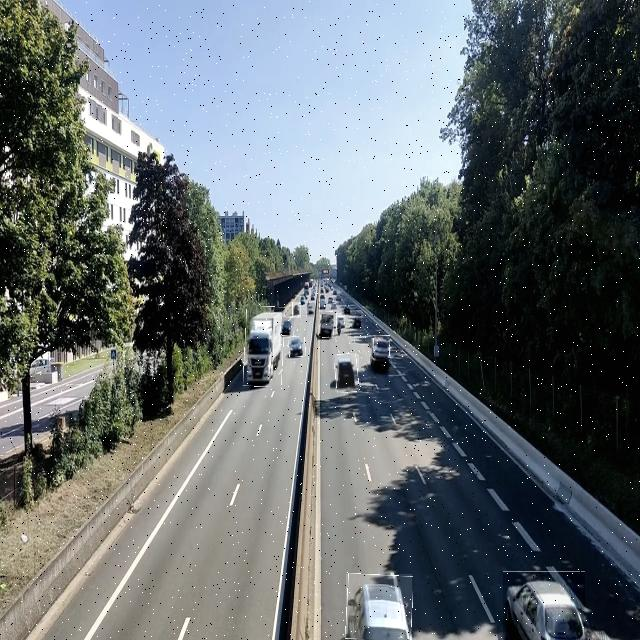Car: (503, 571, 585, 640), (346, 574, 412, 640), (335, 354, 359, 392), (374, 335, 390, 358), (289, 337, 306, 357), (281, 317, 294, 336), (292, 302, 301, 318), (336, 313, 345, 329), (306, 302, 315, 317)
Truck: (244, 307, 284, 387), (319, 312, 335, 338)
